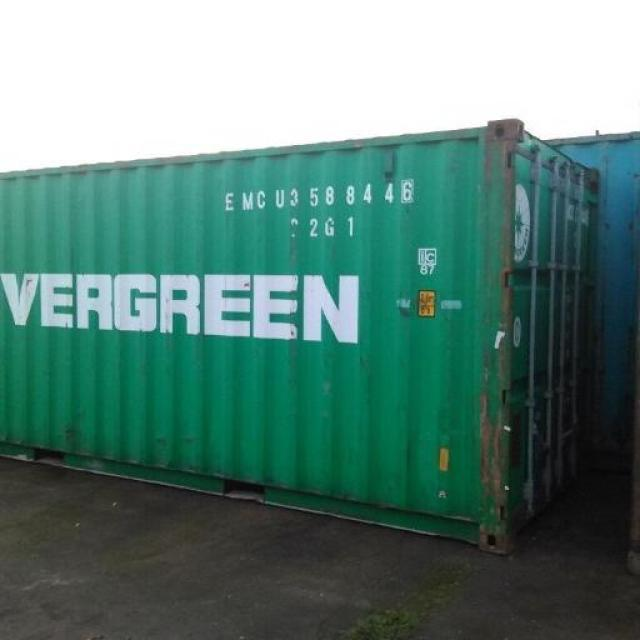ISO: (290, 216, 363, 238)
container_number: (235, 183, 410, 210)
